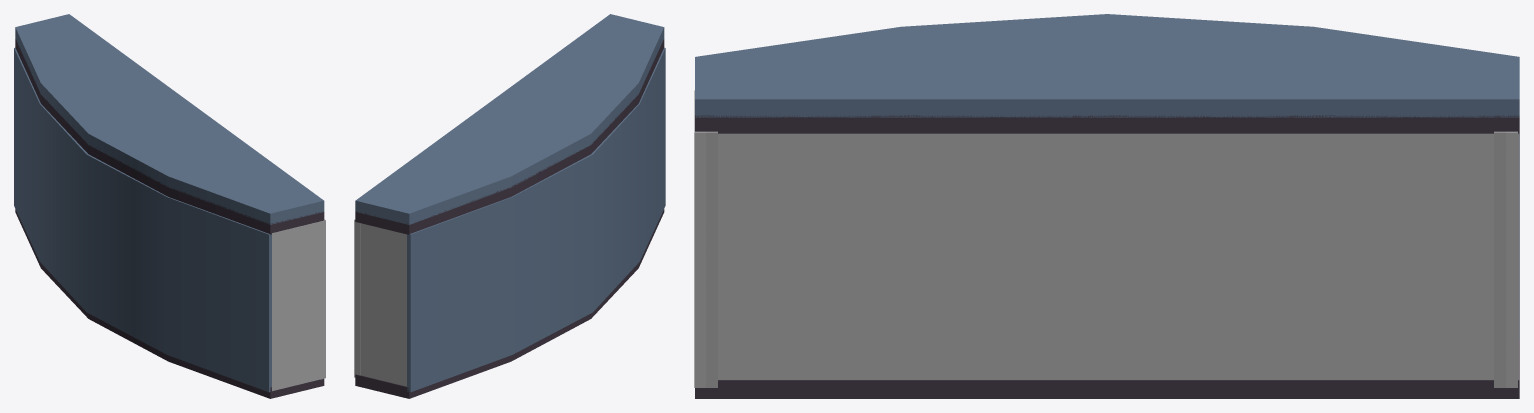
The model's file is displayBoard2.fbx.
3 views of the same model, side by side, from view 1: azimuth 30°, elevation 25°; view 2: azimuth 150°, elevation 25°; view 3: azimuth 270°, elevation 25° (orthographic). The views are drawn at different scales.
Visible parts, largest first — view 1: out_wall, wall1, glass2, wall0, floor0, glass0; view 2: out_wall, wall1, glass1, wall0, floor0, glass0; view 3: glass0, wall1, floor0, wall0, glass2, pCube11, in_wall, glass1.
Part boxes in pixels (x1,y1,x2,y2): out_wall: (14, 48, 271, 392); wall1: (15, 14, 324, 224); glass2: (272, 219, 325, 391); wall0: (15, 39, 324, 234); floor0: (15, 209, 324, 398); glass0: (319, 221, 323, 379); out_wall: (407, 47, 665, 392); wall1: (355, 14, 664, 224); glass1: (354, 219, 406, 386); wall0: (355, 39, 664, 234); floor0: (355, 209, 664, 398); glass0: (356, 222, 360, 375); glass0: (718, 133, 1518, 379); wall1: (695, 14, 1519, 117); floor0: (695, 340, 1519, 398); wall0: (695, 115, 1519, 133); glass2: (694, 90, 706, 387); pCube11: (1494, 131, 1506, 387); in_wall: (706, 131, 717, 387); glass1: (1506, 131, 1517, 387).
Bounding box in the file's own units: 345 × 547 × 1367.
